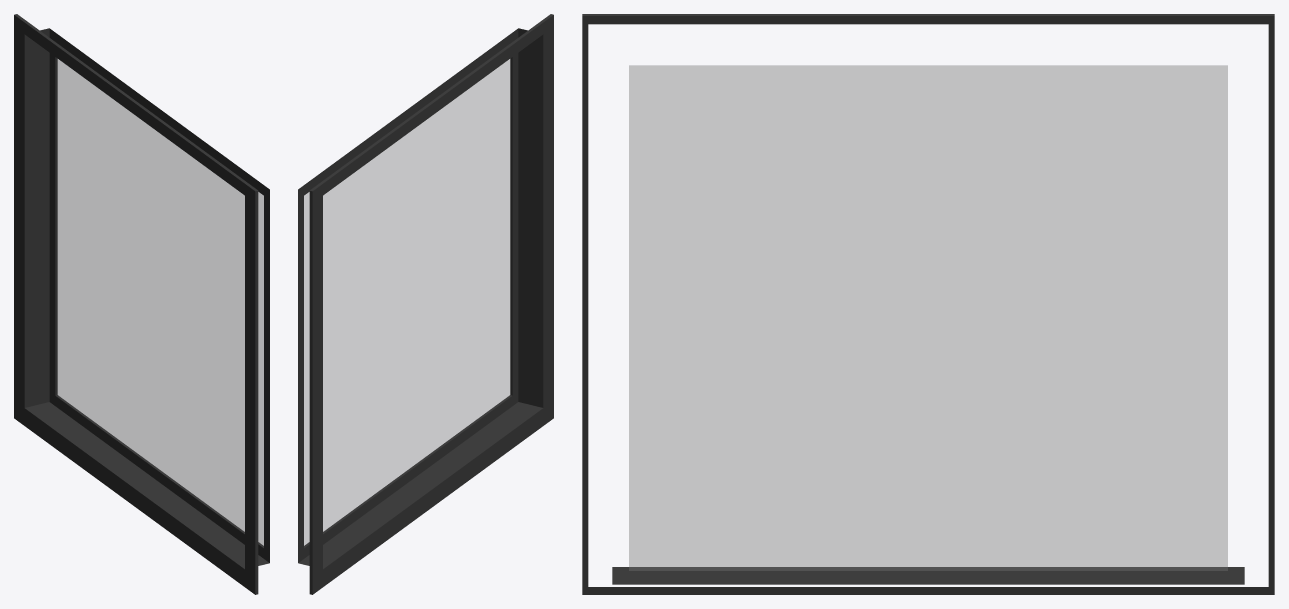
Rendered from Window.fbx.
3 views of the same model, side by side, from view 1: azimuth 30°, elevation 25°; view 2: azimuth 150°, elevation 25°; view 3: azimuth 270°, elevation 25° (orthographic). The views are drawn at different scales.
Parts seen in each view (by area): view 1: Window; view 2: Window; view 3: Window.
Boxes of the visible parts, x1=… form: Window: x1=14, y1=14, x2=269, y2=594; Window: x1=298, y1=14, x2=553, y2=594; Window: x1=582, y1=14, x2=1274, y2=594.
Bounding box in the file's own units: 7.5 × 105 × 114.
